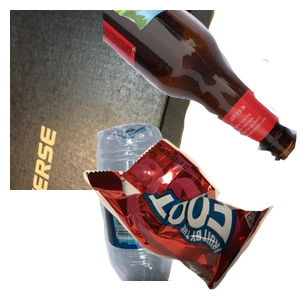cardboard: (10, 10, 217, 190)
glass: (103, 10, 300, 163)
plastic: (94, 120, 267, 300)
trash: (81, 136, 300, 300)
